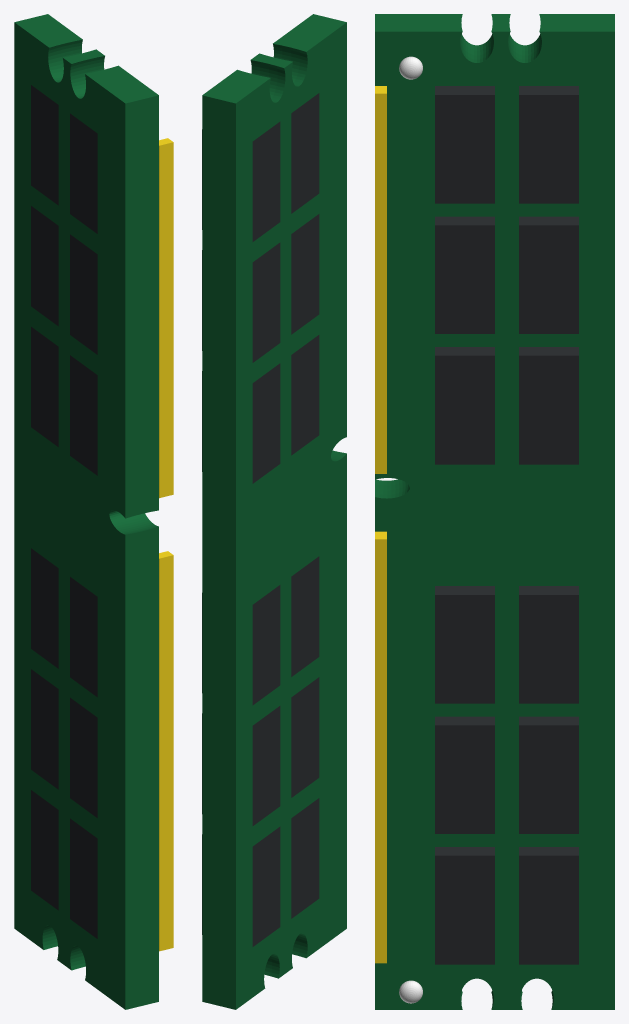
The model's file is DDR4.fbx.
The picture shows the model from 3 angles, left to right: view 1: azimuth 30°, elevation 25°; view 2: azimuth 150°, elevation 25°; view 3: azimuth 270°, elevation 25°; orthographic projection. The views are drawn at different scales.
Visible parts, largest first — view 1: obj_0; view 2: obj_0; view 3: obj_0.
Boxes of the visible parts, bbox=[...] form: obj_0: bbox=[14, 14, 173, 1009]; obj_0: bbox=[202, 14, 346, 1009]; obj_0: bbox=[375, 14, 614, 1009].
Size of the model in its own units: 0.1334 by 2.29 by 0.5083.
